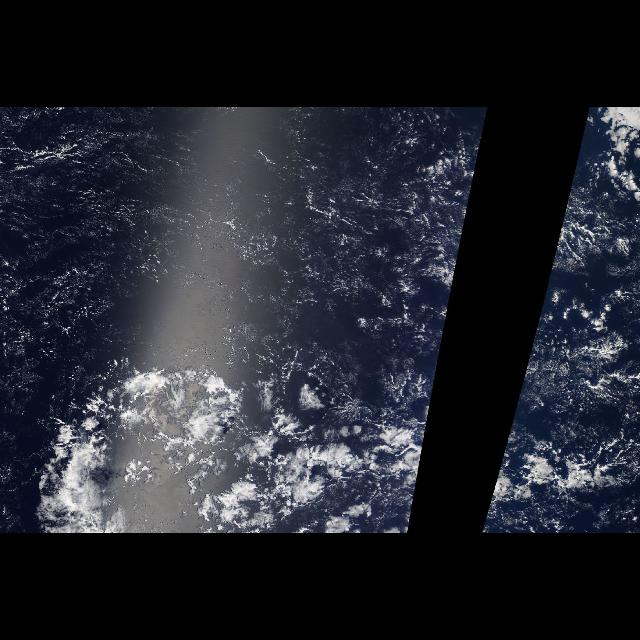Flower: (92, 368, 422, 532)
Gravel: (538, 198, 638, 418)
Sugar: (0, 107, 452, 365)
